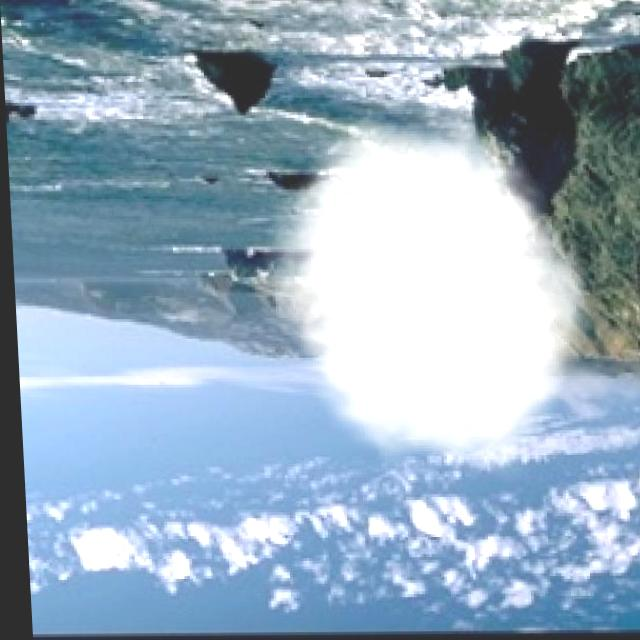no_helmet: (245, 108, 603, 485)
